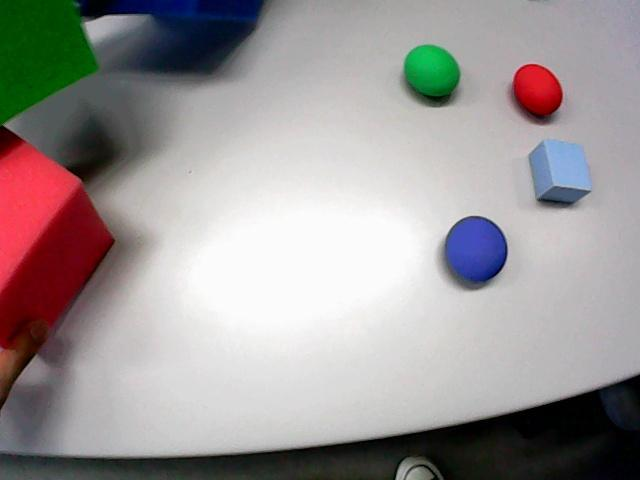blue_block: (529, 139, 591, 202), (79, 0, 261, 21)
red_block: (0, 127, 113, 346)
